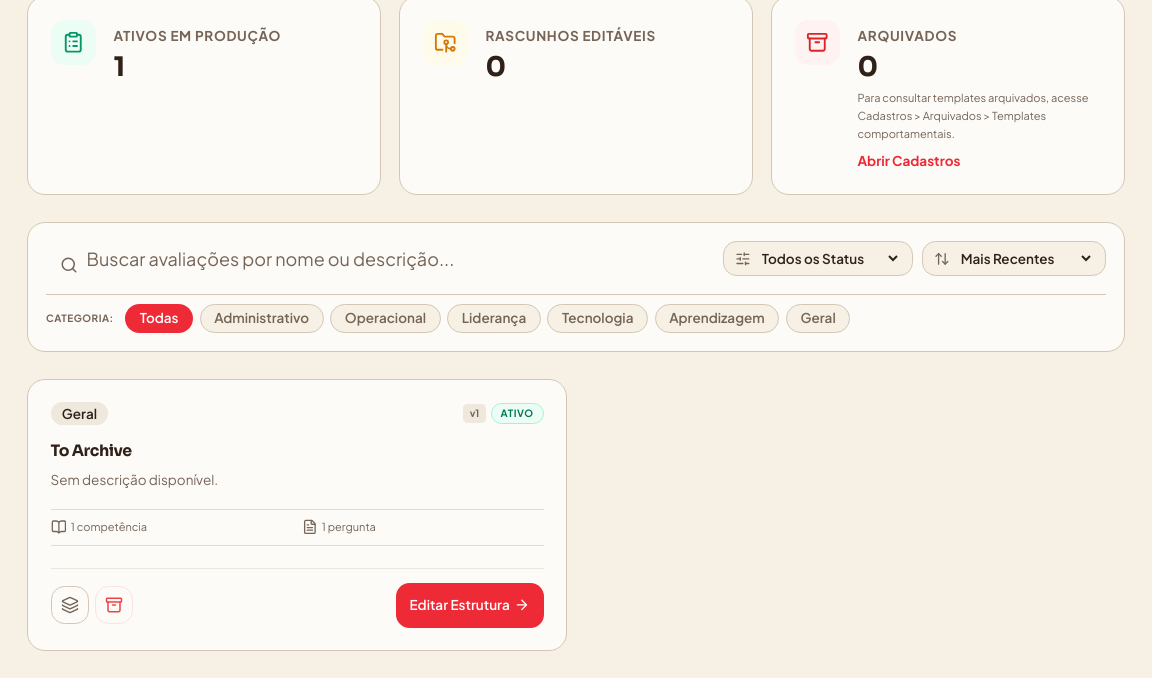
Test: BehavioralTemplatesPage › arquiva template
(page scrolled)
Expected: the heading "To Archive" is shown, [50, 441, 132, 461]
Click the button titled "Arquivar Avaliação".
click(114, 605)  # box [95, 586, 133, 624]
(page scrolled)
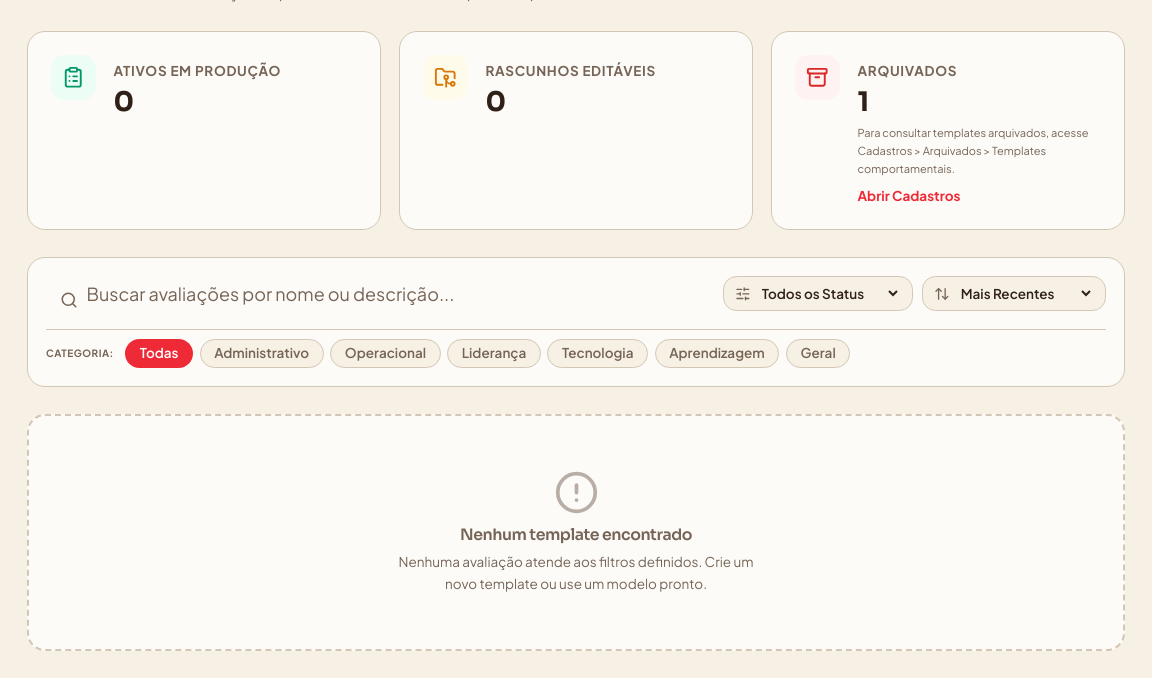
Expected: the heading "To Archive" is gone
